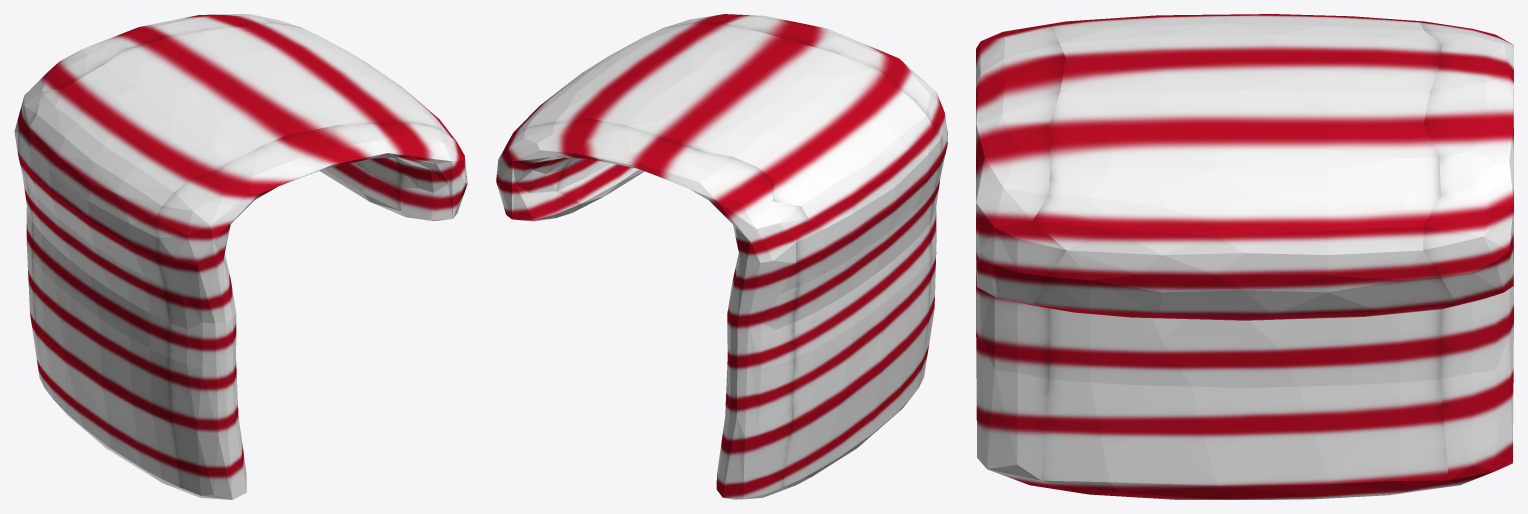
Rendered from sucreOrge.obj.
3 views of the same model, side by side, from view 1: azimuth 30°, elevation 25°; view 2: azimuth 150°, elevation 25°; view 3: azimuth 270°, elevation 25° (orthographic). The views are drawn at different scales.
Parts seen in each view (by area): view 1: sucreOrge_Plane; view 2: sucreOrge_Plane; view 3: sucreOrge_Plane.
Part boxes in pixels (bbox=[...]): sucreOrge_Plane: bbox=[14, 14, 467, 499]; sucreOrge_Plane: bbox=[496, 14, 947, 499]; sucreOrge_Plane: bbox=[976, 14, 1513, 499].
Size of the model in its own units: 1 by 1 by 1.
